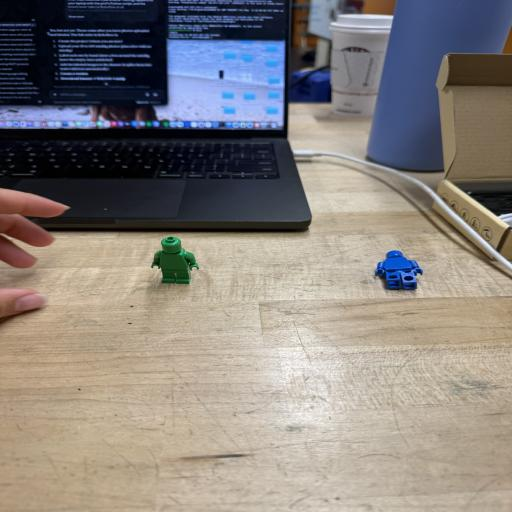blue-minifig: (375, 251, 422, 289)
green-minifig: (152, 237, 198, 283)
